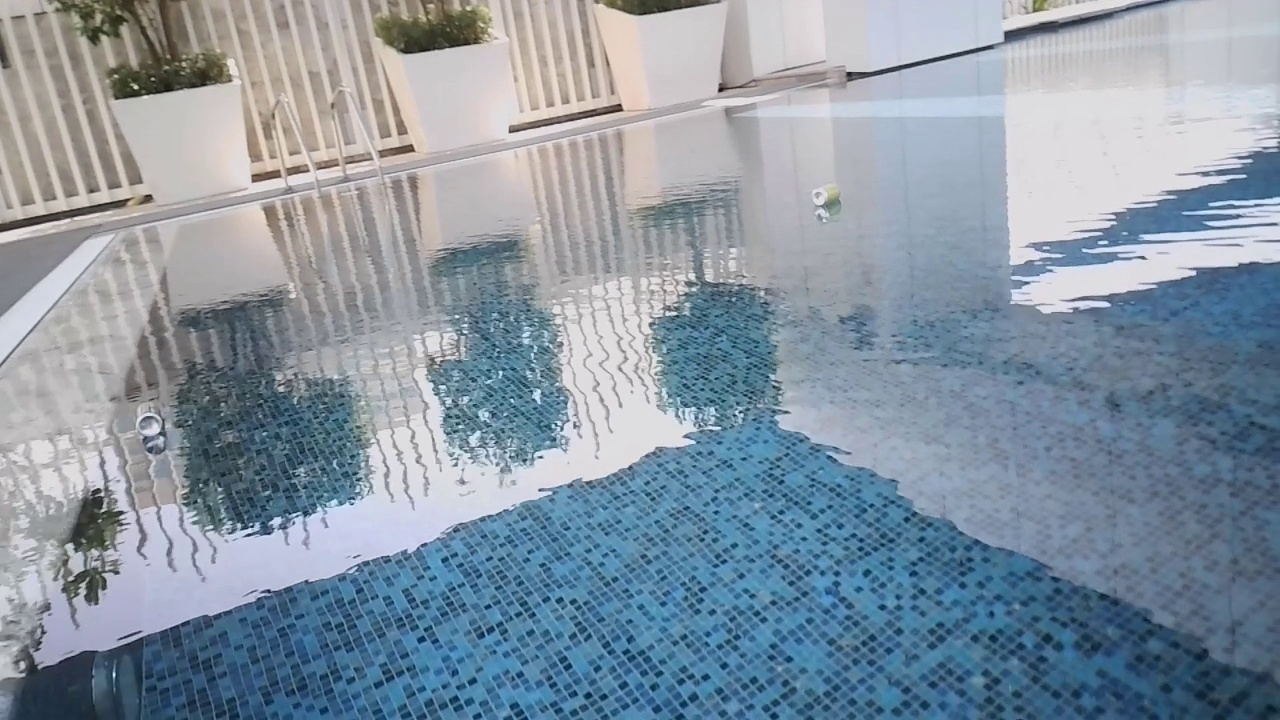debris: (132, 399, 165, 439), (808, 177, 842, 210)
